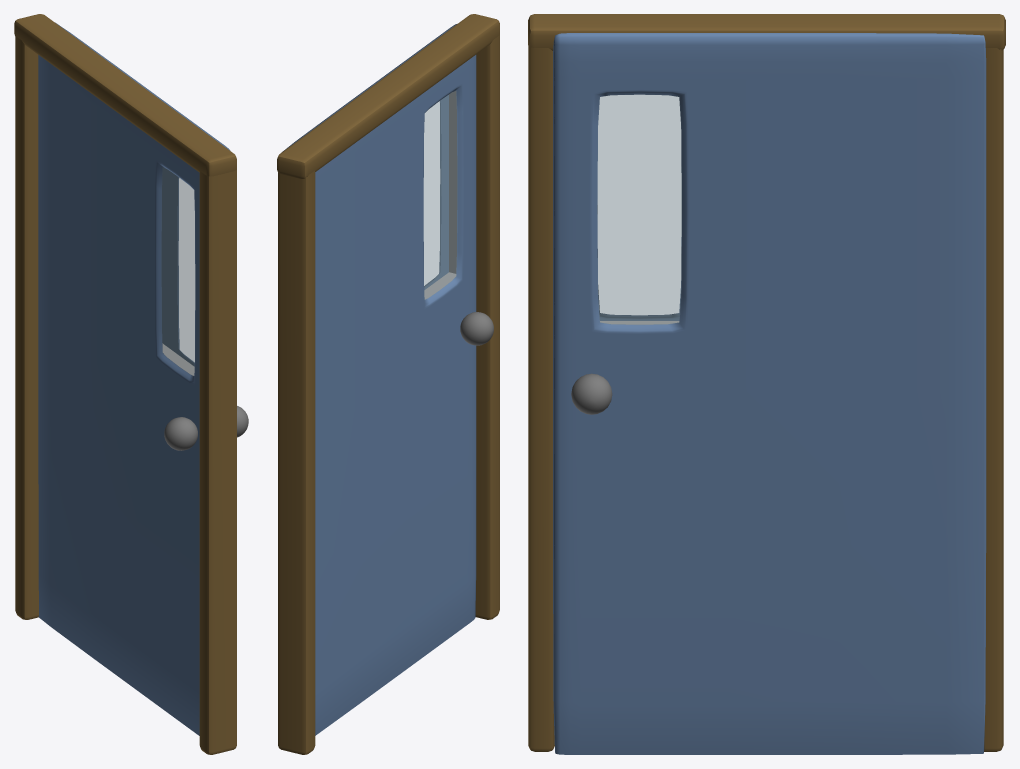
The model's file is door combined.fbx.
The picture shows the model from 3 angles, left to right: view 1: azimuth 30°, elevation 25°; view 2: azimuth 150°, elevation 25°; view 3: azimuth 270°, elevation 25°; orthographic projection. The views are drawn at different scales.
Visible parts, largest first — view 1: group4_pCube8; view 2: group4_pCube8; view 3: group4_pCube8.
Boxes of the visible parts, bbox=[...] form: group4_pCube8: bbox=[14, 14, 248, 754]; group4_pCube8: bbox=[277, 14, 499, 754]; group4_pCube8: bbox=[528, 14, 1005, 754].
Size of the model in its own units: 0.9418 by 6.72 by 4.01.
